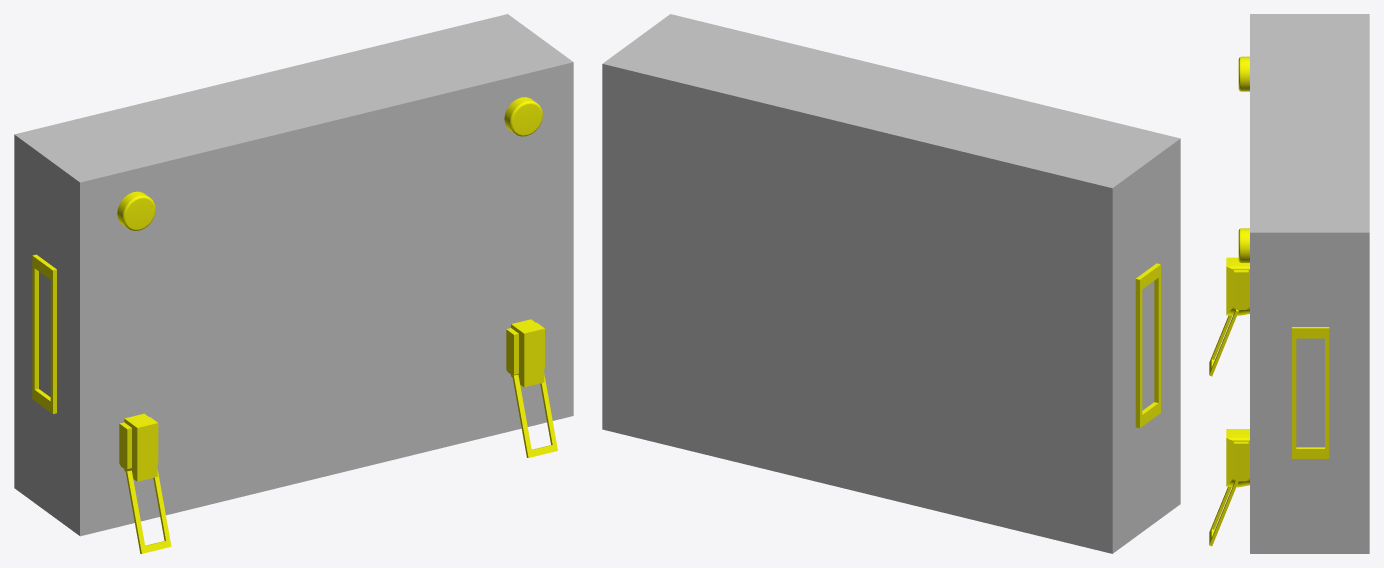
Rendered from sm_hana_bas_induction_fan.glb.
3 views of the same model, side by side, from view 1: azimuth 30°, elevation 25°; view 2: azimuth 150°, elevation 25°; view 3: azimuth 270°, elevation 25° (orthographic). The views are drawn at different scales.
Visible parts, largest first — view 1: sm_color_common, sm_hana_bas_induction_fan; view 2: sm_color_common, sm_hana_bas_induction_fan; view 3: sm_color_common, sm_hana_bas_induction_fan.
Part boxes in pixels (<box>): sm_color_common: <box>14,14,573,536</box>; sm_hana_bas_induction_fan: <box>32,97,557,553</box>; sm_color_common: <box>602,14,1180,553</box>; sm_hana_bas_induction_fan: <box>1135,263,1160,428</box>; sm_color_common: <box>1250,14,1369,553</box>; sm_hana_bas_induction_fan: <box>1209,56,1329,546</box>.
Size of the model in its own units: 0.6146 by 0.4286 by 0.1877.
2 materials, 1 textured.
